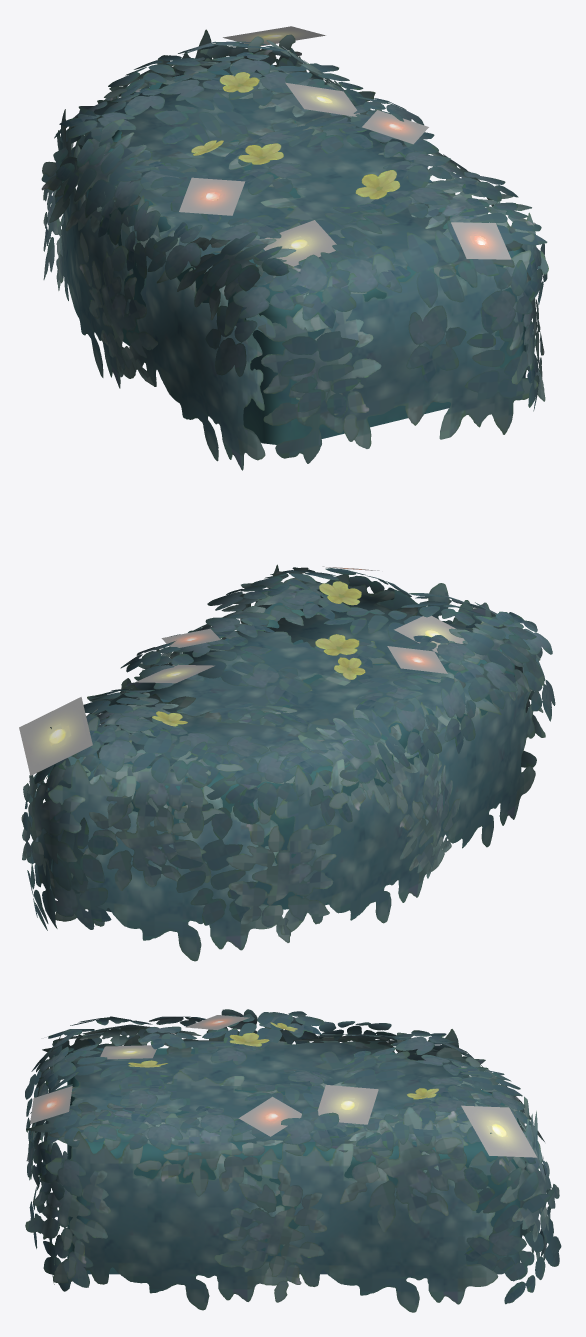
Rendered from pref_sm_beach_winter_techvegetation02_lv3.fbx.
The picture shows the model from 3 angles, top to bottom: view 1: azimuth 30°, elevation 25°; view 2: azimuth 150°, elevation 25°; view 3: azimuth 270°, elevation 25°; orthographic projection. The views are drawn at different scales.
Parts seen in each view (by area): view 1: pref_sm_beach_winter_techvegetation02_lv3, sm_beach_winter_techvegetation02b_lv3; view 2: pref_sm_beach_winter_techvegetation02_lv3, sm_beach_winter_techvegetation02b_lv3; view 3: pref_sm_beach_winter_techvegetation02_lv3, sm_beach_winter_techvegetation02b_lv3.
Boxes of the visible parts, x1=… form: pref_sm_beach_winter_techvegetation02_lv3: x1=41, y1=29, x2=548, y2=470; sm_beach_winter_techvegetation02b_lv3: x1=179, y1=26, x2=511, y2=266; pref_sm_beach_winter_techvegetation02_lv3: x1=21, y1=564, x2=555, y2=961; sm_beach_winter_techvegetation02b_lv3: x1=19, y1=566, x2=464, y2=775; pref_sm_beach_winter_techvegetation02_lv3: x1=25, y1=1009, x2=561, y2=1312; sm_beach_winter_techvegetation02b_lv3: x1=30, y1=1015, x2=537, y2=1157.
Size of the model in its own units: 2.9 by 1.87 by 4.3.
